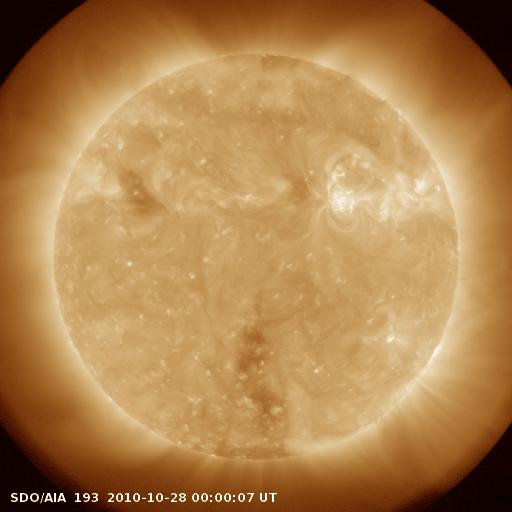coronal_hole: (231, 307, 302, 471), (118, 163, 171, 219)
